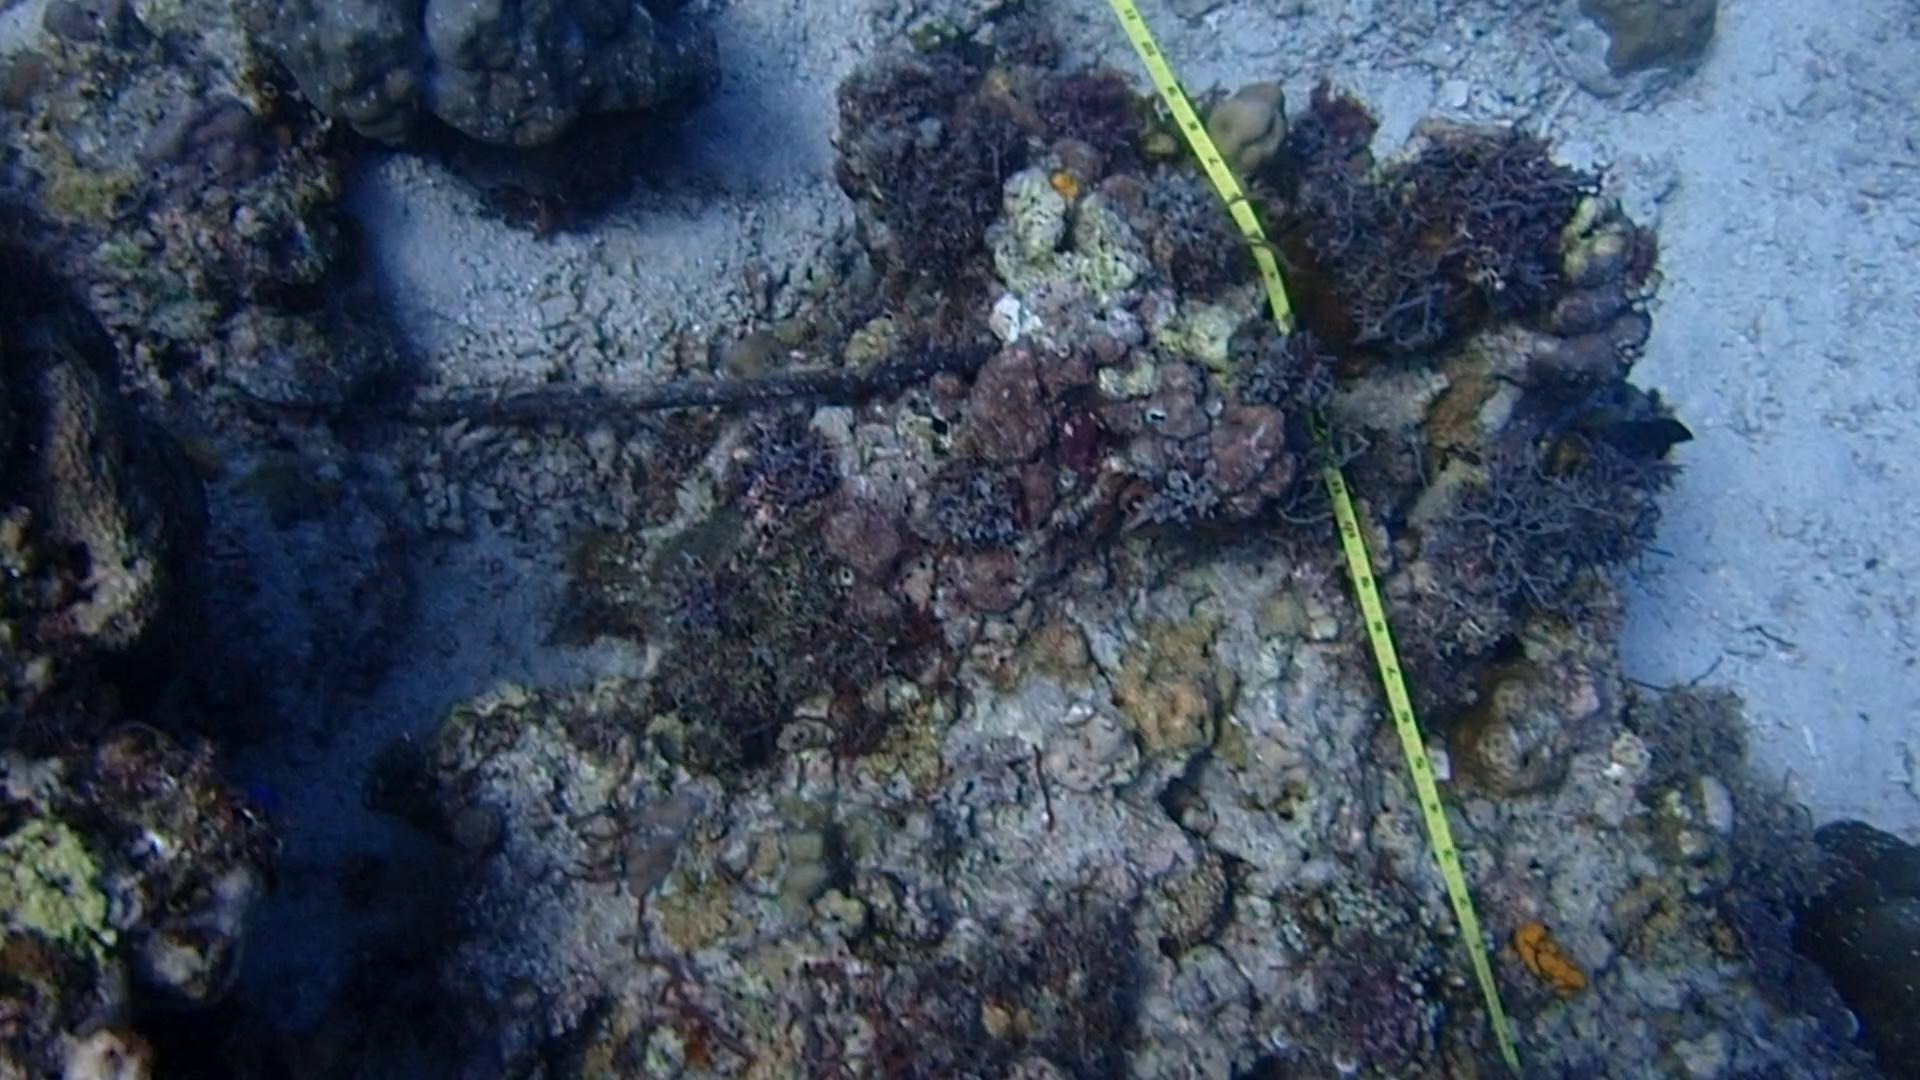Dark Fish: (1604, 393, 1700, 477)
